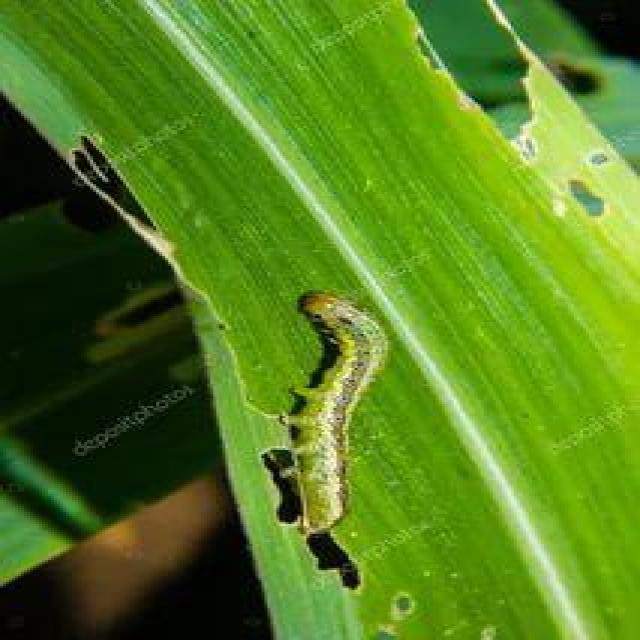BeetArmyWorm-Larva-: (270, 276, 390, 538)
